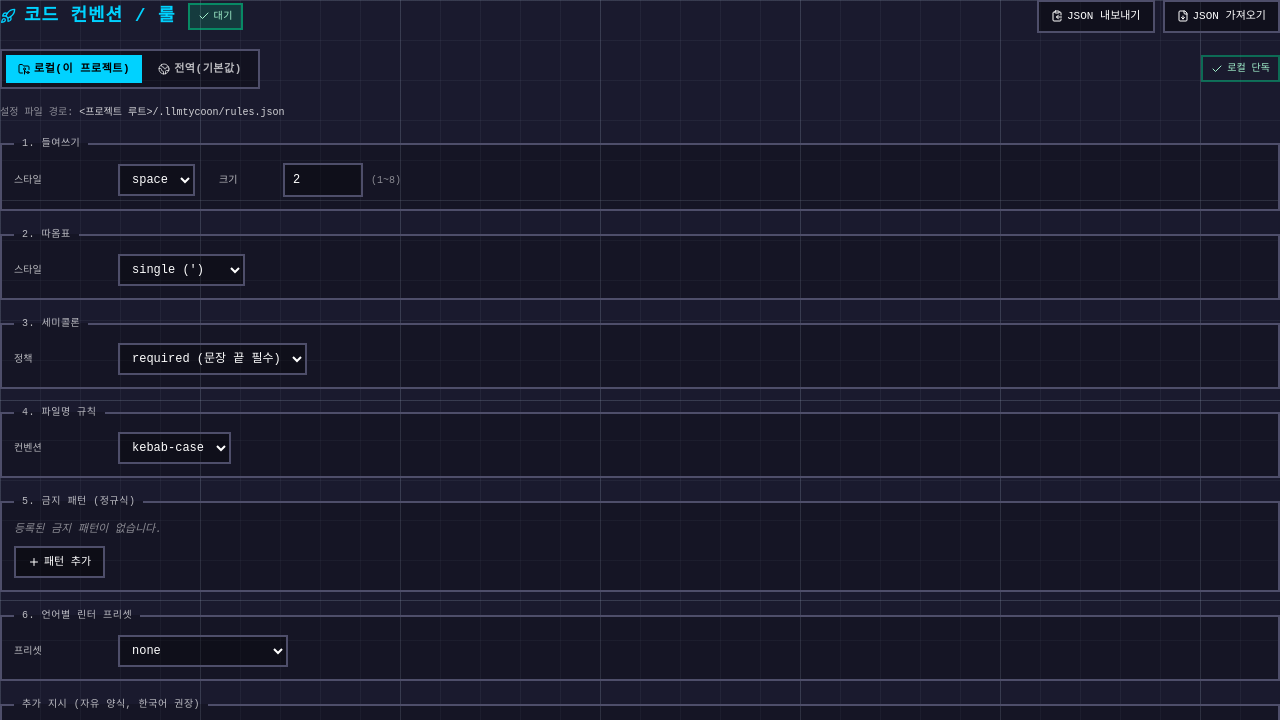
V3. 저장 성공 시 이력이 쌓이고 saveStatus 가 idle 로 수렴
들여쓰기 크기를 2 → 4 로 변경해 dirty 유도.
Replace the text in the number field named "들여쓰기 크기" with "4" at (323, 180), box [283,163,363,197]
(page scrolled)
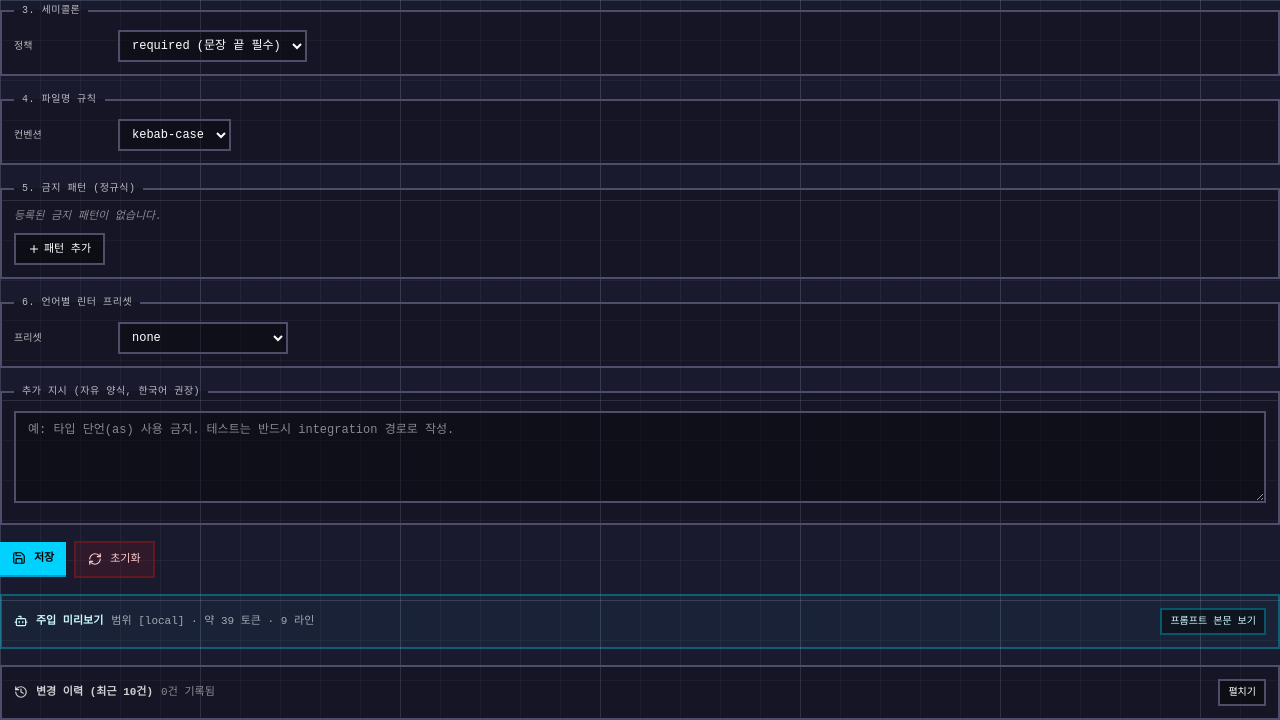
저장 버튼 클릭.
Click the button with aria-label "코드 규칙 저장" at (33, 559), box [0,542,66,576]
(page scrolled)
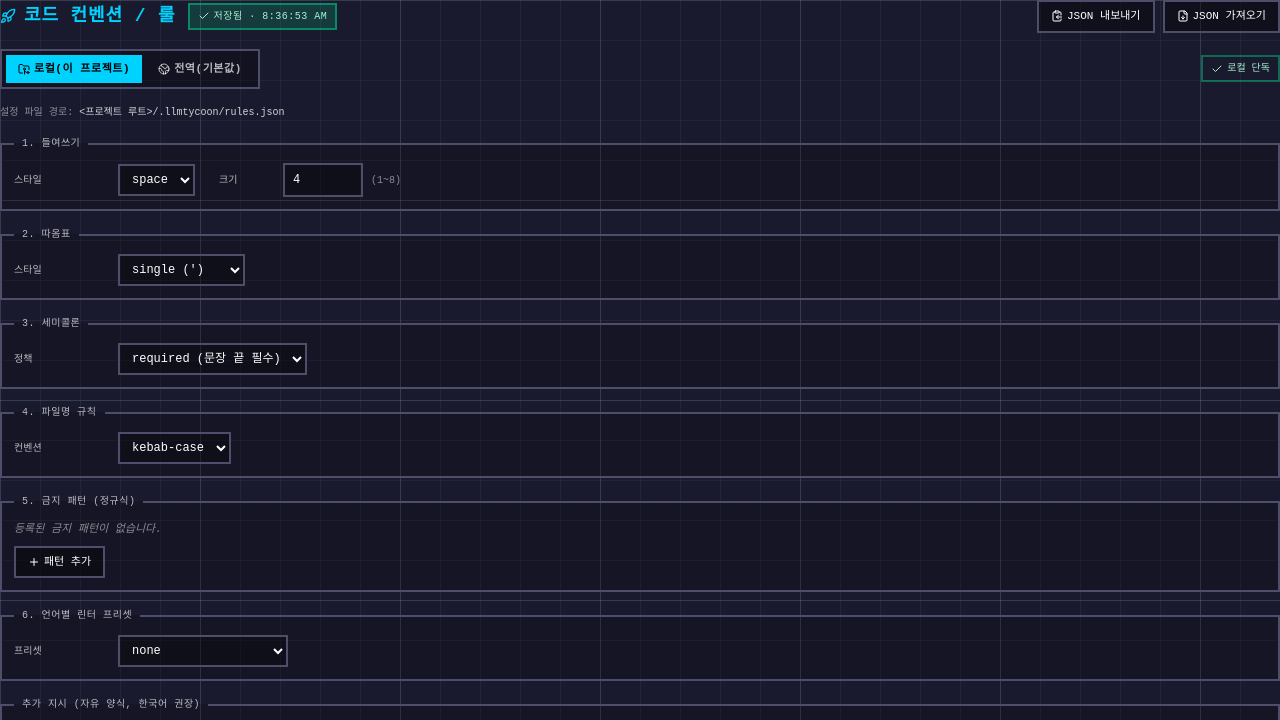
Expected: the message with test id "code-rules-save-status" shows "저장됨", [214,11,327,22]
